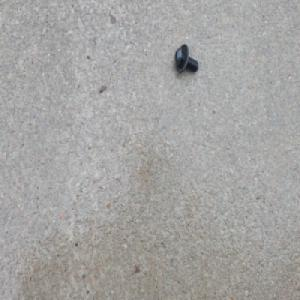BoltWasher: (173, 41, 198, 73)
